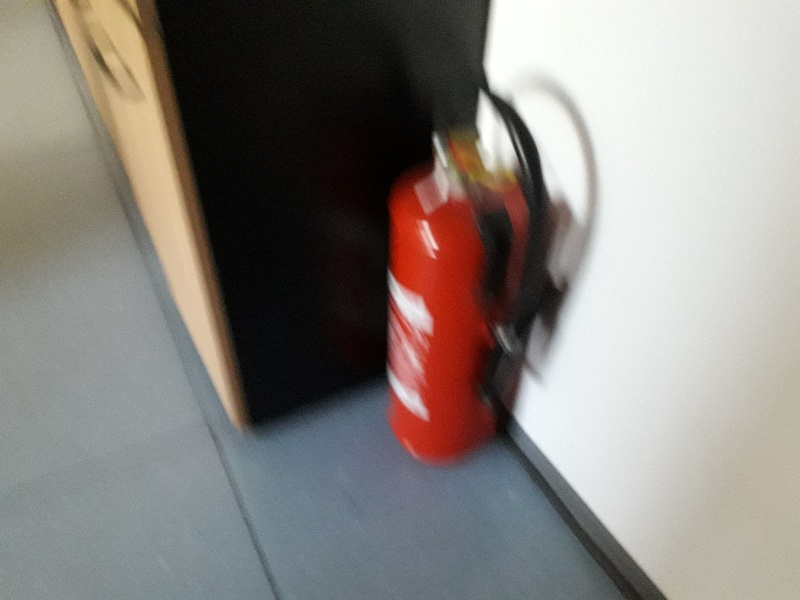vataparat: (388, 72, 546, 465)
